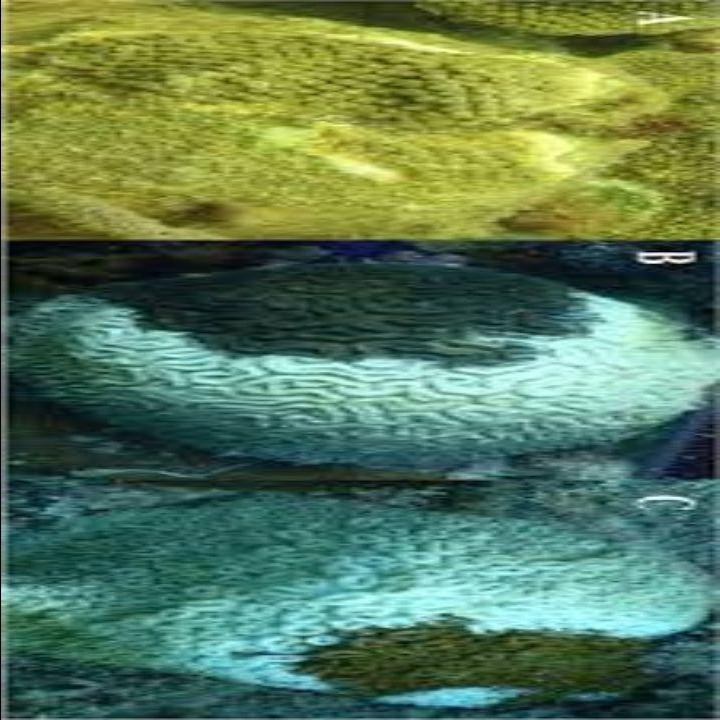Bleached disease White Pox Disease: (8, 265, 720, 692)
